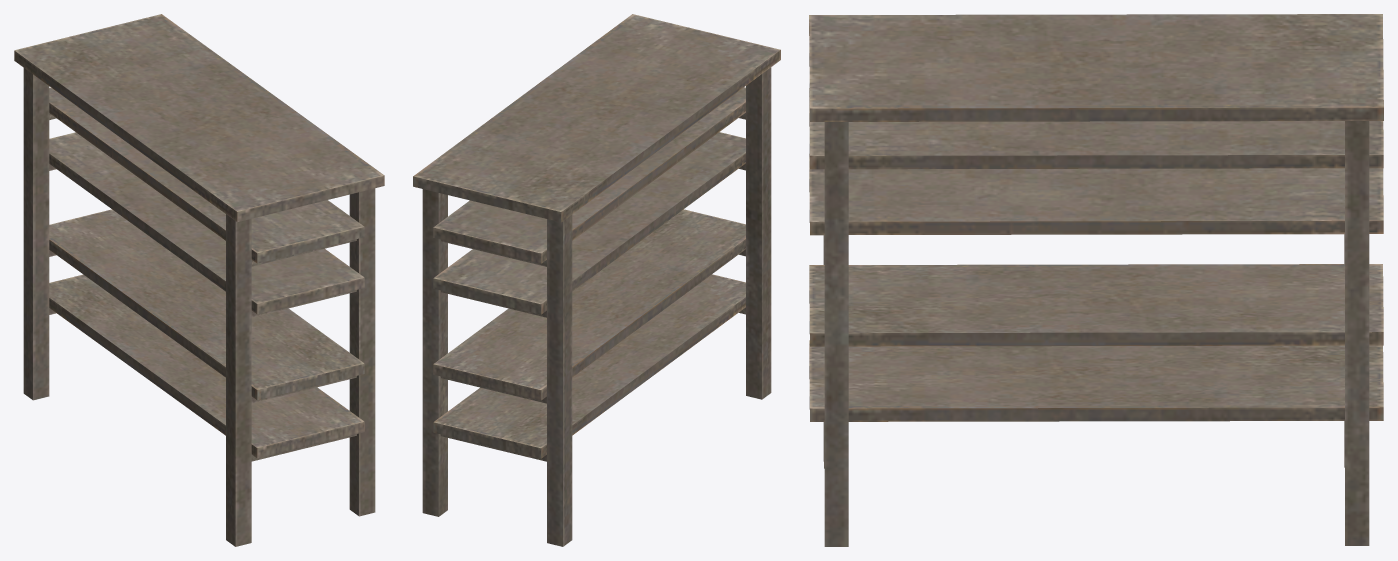
File: Prop_DflgGuswfjcDj002.glb
The picture shows the model from 3 angles, left to right: view 1: azimuth 30°, elevation 25°; view 2: azimuth 150°, elevation 25°; view 3: azimuth 270°, elevation 25°; orthographic projection. The views are drawn at different scales.
Parts seen in each view (by area): view 1: dflg_guswfjc_dj002; view 2: dflg_guswfjc_dj002; view 3: dflg_guswfjc_dj002.
Boxes of the visible parts, <box> form: dflg_guswfjc_dj002: <box>14,14,384,546</box>; dflg_guswfjc_dj002: <box>413,14,780,546</box>; dflg_guswfjc_dj002: <box>809,14,1383,546</box>.
Bounding box in the file's own units: 0.7555 × 1.64 × 1.94.
Materials: 1 (1 with a texture image).
